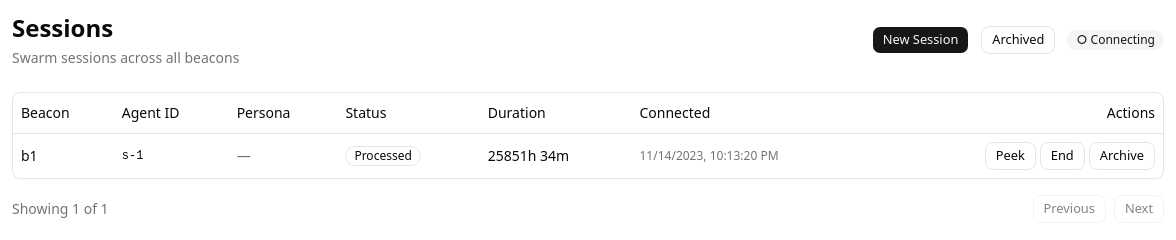
Test: SessionsPage archive actions › undo restores the archived session and refetches
This screenshot has width=1176, height=240.
Expected: the text "Processed" is shown, [345, 146, 421, 166]
Step 1. Click the button "Archive" → (1122,156), box [1089, 142, 1155, 170]
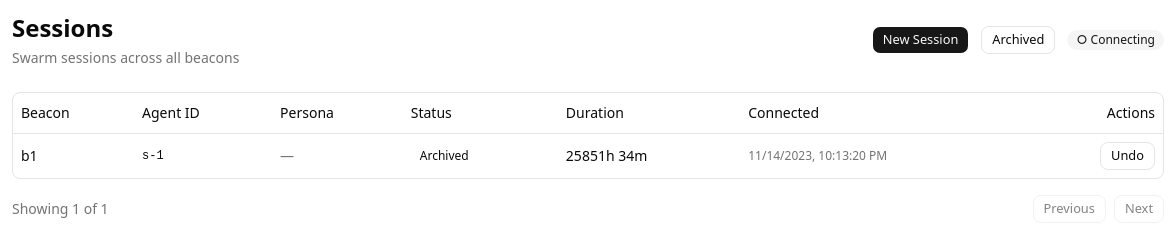
Expected: the button "Undo" is shown
Step 2. Click the button "Undo" → (1128,156), box [1100, 142, 1155, 170]
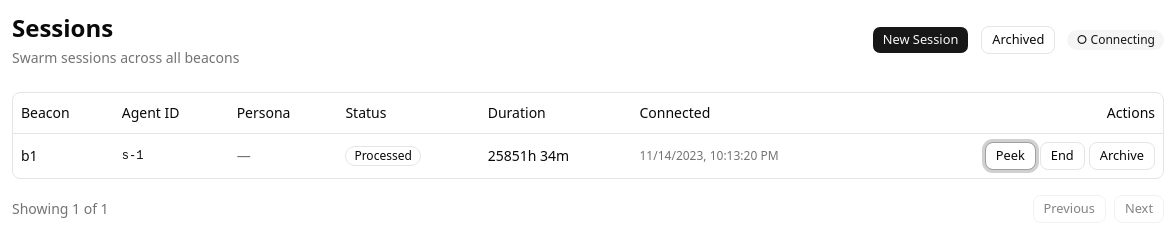
Expected: the text "Processed" is shown, [345, 146, 421, 166]
Expected: the button "Undo" is gone
